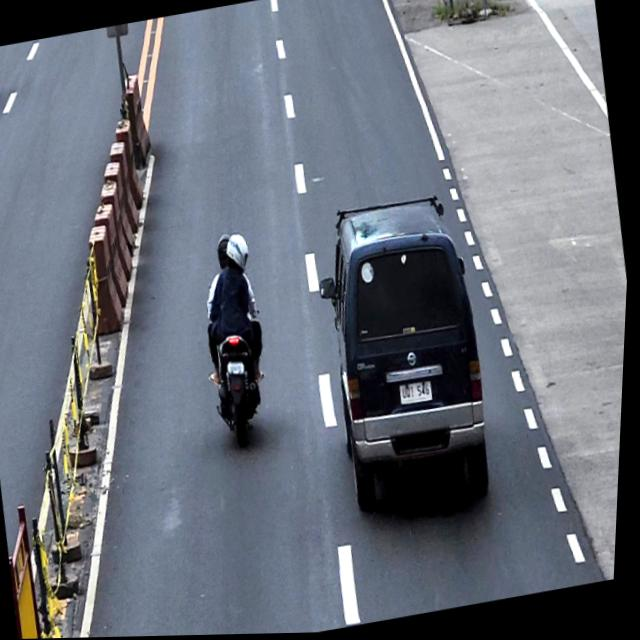Car: (304, 186, 514, 530)
License-Plate: (400, 379, 440, 410), (229, 358, 250, 382)
Motorcycle: (201, 282, 282, 453)
